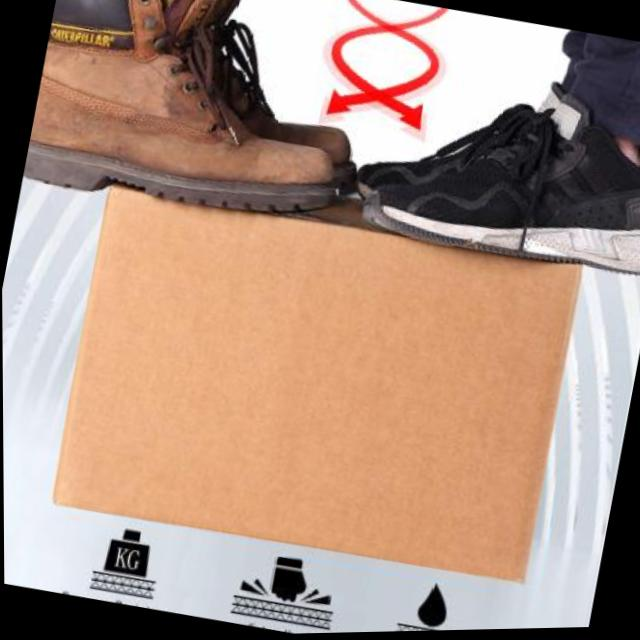box: (40, 157, 598, 607)
